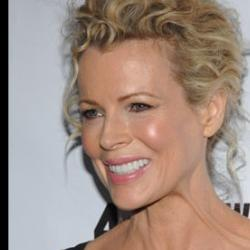face: (54, 2, 240, 211)
